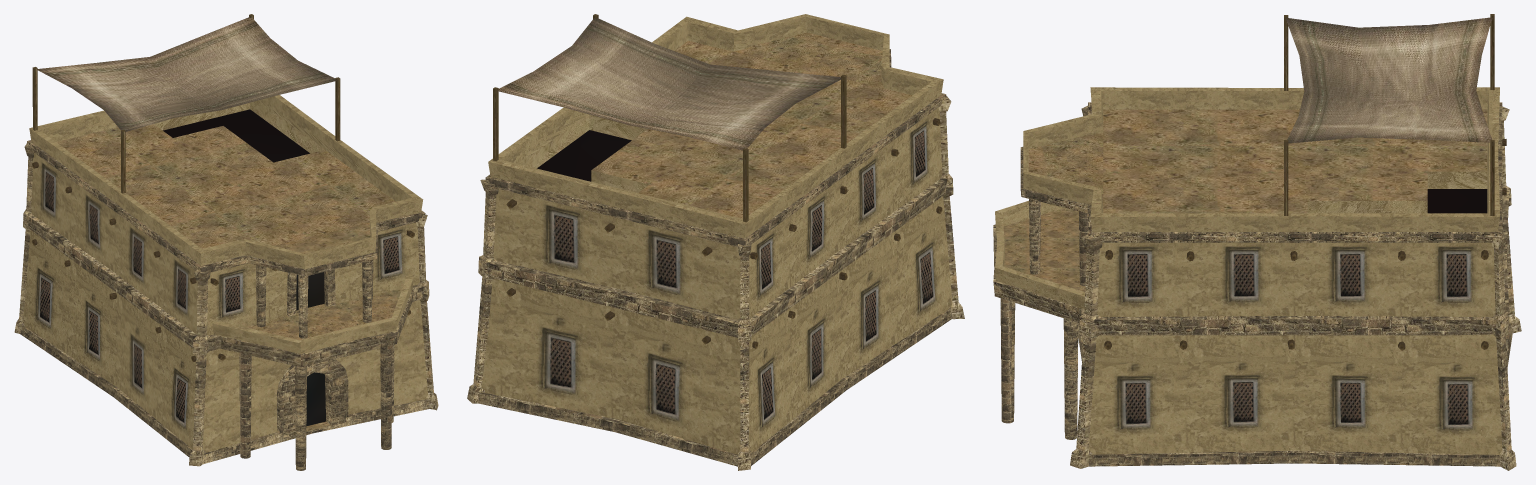
File: h_desert.glb
3 renders of one model, left to right at view 1: azimuth 30°, elevation 25°; view 2: azimuth 150°, elevation 25°; view 3: azimuth 270°, elevation 25°, orthographic. The views are drawn at different scales.
Visible parts, largest first — view 1: Object_7, Object_6, Object_5, Object_4, Object_17, Object_15; view 2: Object_7, Object_5, Object_6, Object_17, Object_4, Object_15; view 3: Object_7, Object_6, Object_5, Object_4, Object_17, Object_15.
Boxes of the visible parts, bbox=[...] form: Object_7: bbox=[23, 109, 419, 449]; Object_6: bbox=[56, 124, 402, 431]; Object_5: bbox=[14, 140, 438, 470]; Object_4: bbox=[29, 95, 427, 452]; Object_17: bbox=[37, 17, 335, 131]; Object_15: bbox=[32, 14, 414, 361]; Object_7: bbox=[481, 107, 952, 454]; Object_5: bbox=[467, 49, 964, 470]; Object_6: bbox=[591, 32, 911, 218]; Object_17: bbox=[498, 18, 842, 150]; Object_4: bbox=[488, 14, 943, 238]; Object_15: bbox=[493, 14, 942, 348]; Object_7: bbox=[1088, 189, 1509, 454]; Object_6: bbox=[1003, 109, 1487, 291]; Object_5: bbox=[993, 102, 1521, 470]; Object_4: bbox=[995, 87, 1499, 309]; Object_17: bbox=[1286, 17, 1492, 143]; Object_15: bbox=[1084, 14, 1506, 350].
Bounding box in the file's own units: 13.86 × 14.07 × 21.08.
6 materials, 6 textured.
